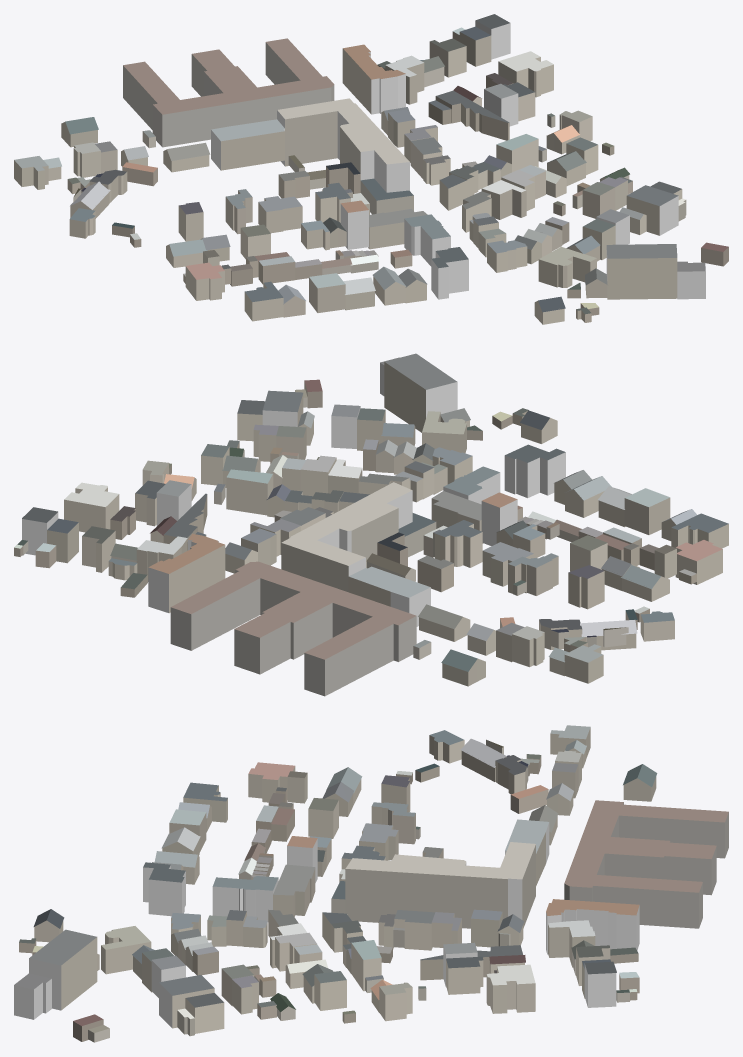
3 renders of one model, top to bottom at view 1: azimuth 30°, elevation 25°; view 2: azimuth 150°, elevation 25°; view 3: azimuth 270°, elevation 25°, orthographic. The views are drawn at different scales.
Parts seen in each view (by area): view 1: tuile; view 2: tuile; view 3: tuile.
Part boxes in pixels (box(x1,y1,x2,y2)): tuile: box(14, 14, 728, 324); tuile: box(14, 353, 728, 696); tuile: box(14, 725, 728, 1042).
Bounding box in the file's own units: 258 × 33.68 × 286.
